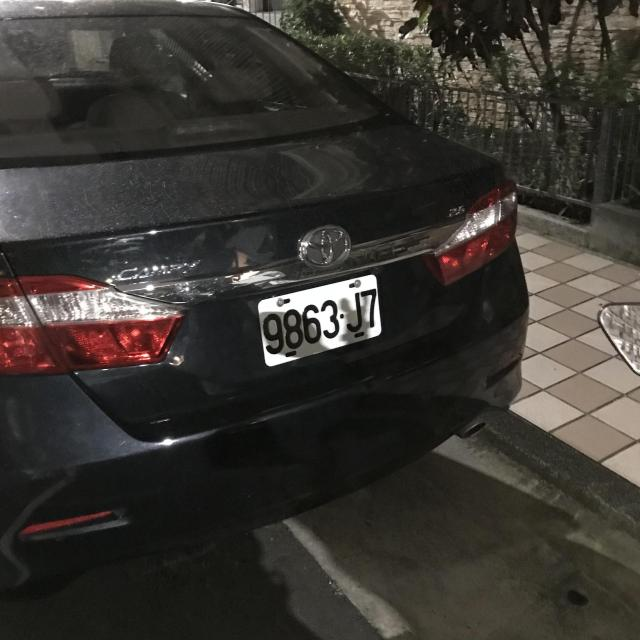W: (252, 271, 391, 371)
